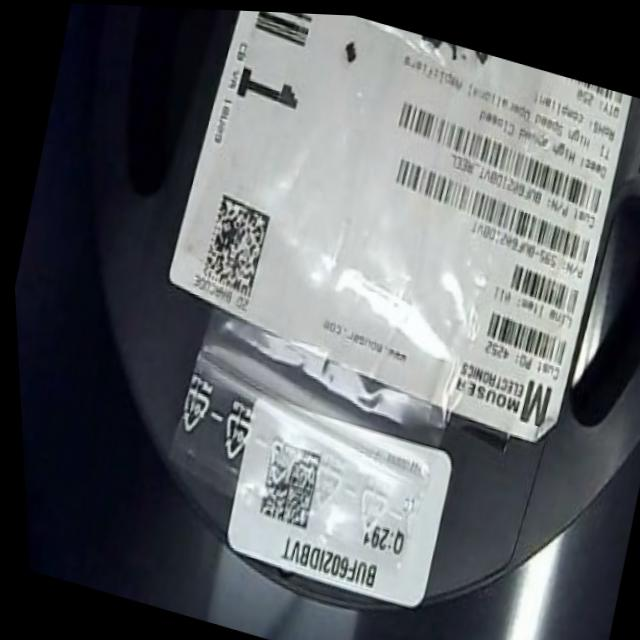datamatrix: (191, 185, 277, 301), (244, 431, 322, 532)
